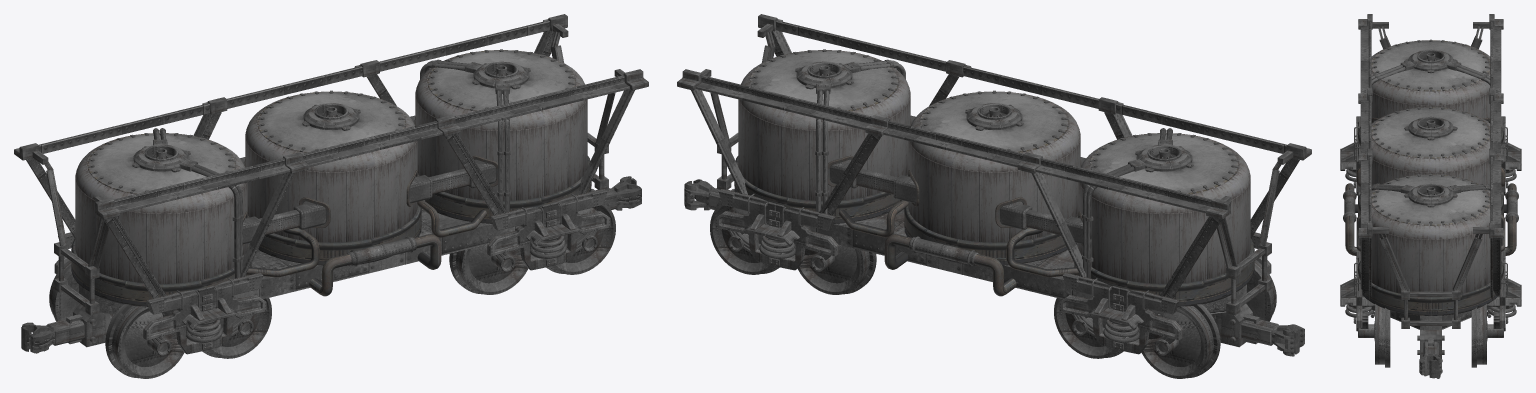
The model's file is static.fbx.
The picture shows the model from 3 angles, left to right: view 1: azimuth 30°, elevation 25°; view 2: azimuth 150°, elevation 25°; view 3: azimuth 270°, elevation 25°; orthographic projection. The views are drawn at different scales.
Parts seen in each view (by area): view 1: Boole_15, Cube_Cube_1_2, Disc_2, Cube_2, Disc, Disc_3, Cylinder_163, Boole_17, Boole_21, Cylinder_1_3, Cube_Cube, Cylinder_89 (+42 smaller); view 2: Boole_15, Cube_Cube_1_2, Disc_2, Cube_2, Disc, Disc_3, Cylinder_163, Boole_17, Boole_21, Cylinder_1_3, Cube_Cube, Cylinder_89 (+42 smaller); view 3: Boole_15, Disc_2, Disc_3, Disc, Cylinder_1_4, Cylinder_89, Cylinder_166, Cylinder_36, Cylinder_142, Cube_Cube, Cube_Cube_1_2, Cylinder_143 (+42 smaller).
Boxes of the visible parts, x1=… form: Boole_15: x1=39, y1=20, x2=629, y2=213; Cube_Cube_1_2: x1=26, y1=30, x2=634, y2=298; Disc_2: x1=257, y1=91, x2=405, y2=152; Cube_2: x1=79, y1=209, x2=520, y2=316; Disc: x1=87, y1=133, x2=235, y2=194; Disc_3: x1=427, y1=50, x2=575, y2=111; Cylinder_163: x1=49, y1=260, x2=188, y2=378; Boole_17: x1=54, y1=232, x2=266, y2=354; Boole_21: x1=487, y1=189, x2=610, y2=270; Cylinder_1_3: x1=248, y1=205, x2=421, y2=265; Cube_Cube: x1=14, y1=14, x2=648, y2=219; Cylinder_89: x1=245, y1=91, x2=415, y2=171; Boole_15: x1=696, y1=20, x2=1286, y2=213; Cube_Cube_1_2: x1=691, y1=30, x2=1299, y2=298; Disc_2: x1=920, y1=91, x2=1068, y2=152; Cube_2: x1=805, y1=209, x2=1246, y2=316; Disc: x1=1090, y1=133, x2=1238, y2=194; Disc_3: x1=750, y1=50, x2=898, y2=111; Cylinder_163: x1=1137, y1=260, x2=1276, y2=378; Boole_17: x1=1059, y1=232, x2=1271, y2=354; Boole_21: x1=715, y1=189, x2=838, y2=270; Cylinder_1_3: x1=904, y1=205, x2=1077, y2=265; Cube_Cube: x1=677, y1=14, x2=1311, y2=219; Cylinder_89: x1=910, y1=91, x2=1080, y2=171; Boole_15: x1=1360, y1=22, x2=1501, y2=227; Disc_2: x1=1371, y1=107, x2=1490, y2=158; Disc_3: x1=1371, y1=174, x2=1490, y2=225; Disc: x1=1371, y1=40, x2=1490, y2=91; Cylinder_1_4: x1=1358, y1=261, x2=1503, y2=315; Cylinder_89: x1=1371, y1=107, x2=1490, y2=172; Cylinder_166: x1=1374, y1=304, x2=1487, y2=367; Cylinder_36: x1=1371, y1=40, x2=1490, y2=105; Cylinder_142: x1=1371, y1=174, x2=1490, y2=239; Cube_Cube: x1=1358, y1=14, x2=1503, y2=238; Cube_Cube_1_2: x1=1360, y1=238, x2=1501, y2=299; Cylinder_143: x1=1419, y1=239, x2=1443, y2=291.
Size of the model in its own units: 1205 by 368 by 382.
6 materials, 6 textured.
